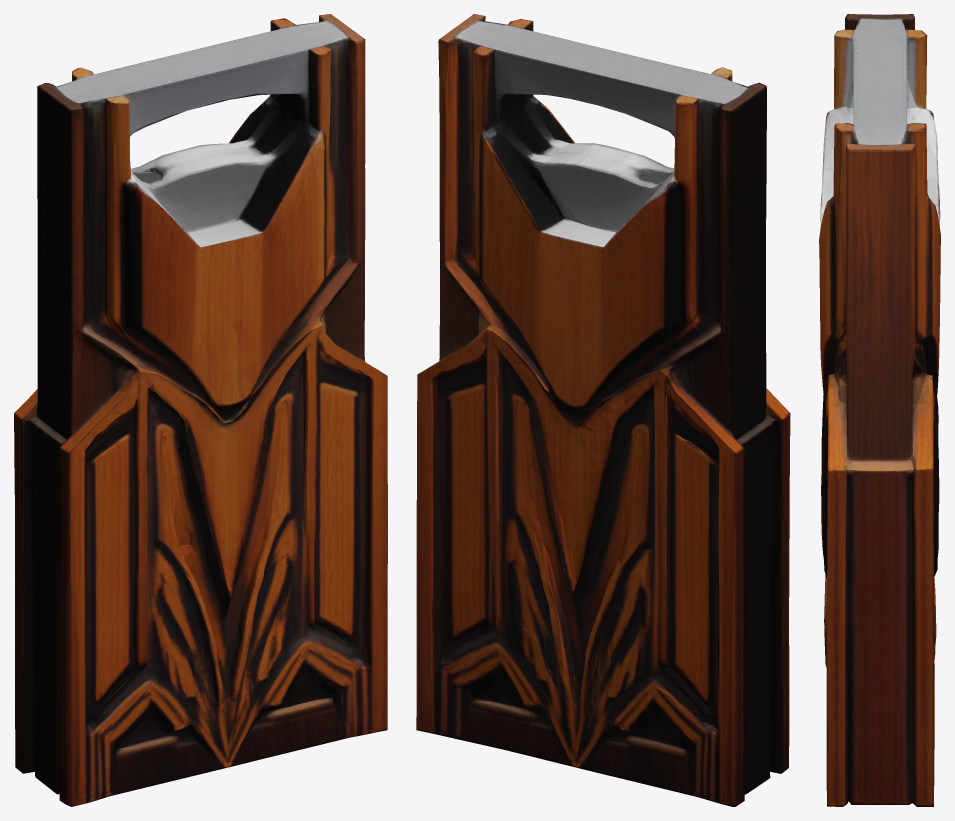
The model's file is wooden-bottle-opener-art-deco.jpeg.glb.
3 renders of one model, left to right at view 1: azimuth 30°, elevation 25°; view 2: azimuth 150°, elevation 25°; view 3: azimuth 270°, elevation 25°, orthographic. The views are drawn at different scales.
Visible parts, largest first — view 1: world; view 2: world; view 3: world.
Part boxes in pixels (x1,y1,x2,y2): world: [14, 14, 387, 806]; world: [416, 14, 790, 806]; world: [819, 14, 940, 806].
Bounding box in the file's own units: 0.4863 × 1 × 0.1691.
Materials: 1 (1 with a texture image).
